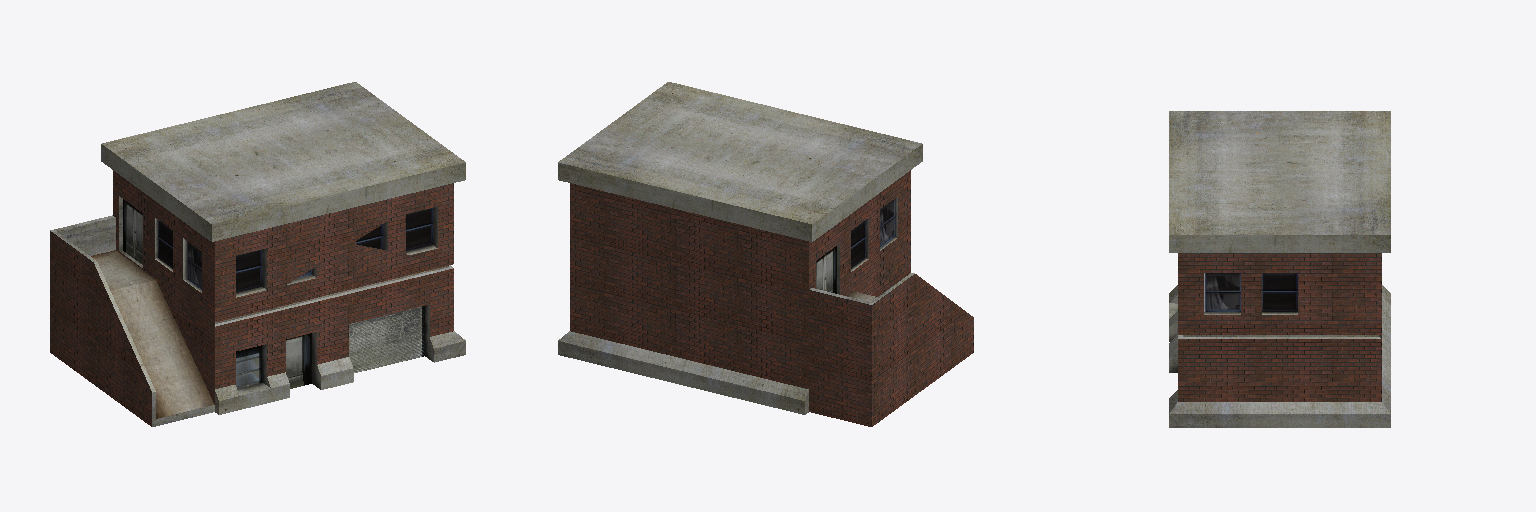
3 renders of one model, left to right at view 1: azimuth 30°, elevation 25°; view 2: azimuth 150°, elevation 25°; view 3: azimuth 270°, elevation 25°, orthographic.
Parts seen in each view (by area): view 1: house2; view 2: house2; view 3: house2.
Boxes of the visible parts, box(x1,y1,x2,y2) form: house2: box(50, 82, 465, 426); house2: box(558, 82, 973, 426); house2: box(1169, 111, 1390, 427).
Bounding box in the file's own units: 584 × 347 × 361.
1 materials, 1 textured.